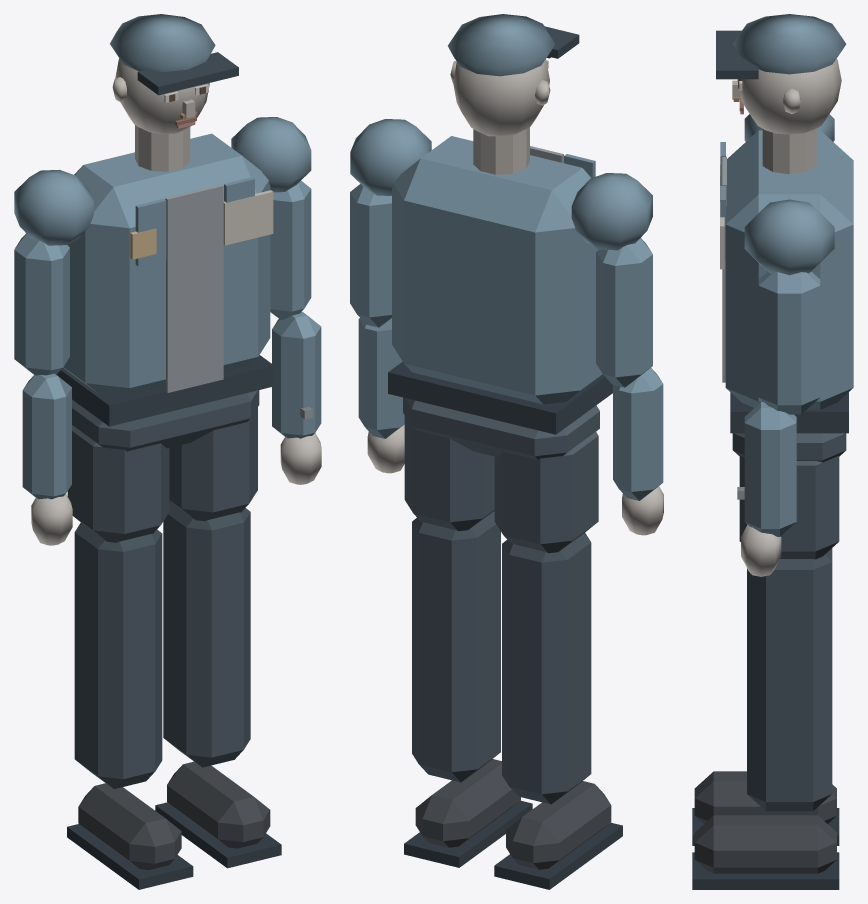
Rendered from personaje_guard.glb.
3 views of the same model, side by side, from view 1: azimuth 30°, elevation 25°; view 2: azimuth 150°, elevation 25°; view 3: azimuth 270°, elevation 25° (orthographic). The views are drawn at different scales.
Size of the model in its own units: 0.72 by 1.94 by 0.34.
